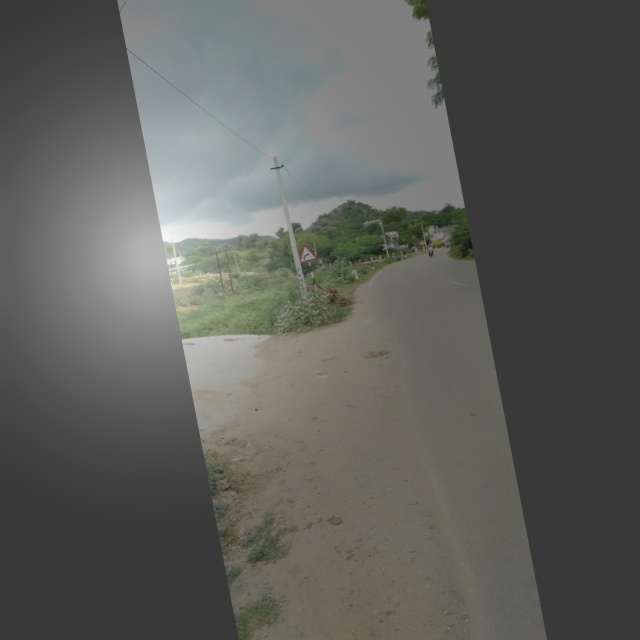Right_Hand_Curve: (295, 242, 318, 265)
